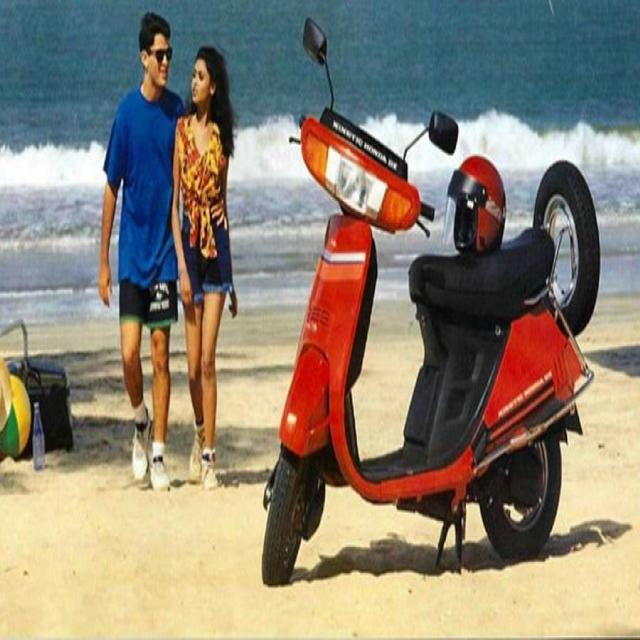motorcycle: (261, 19, 600, 584)
